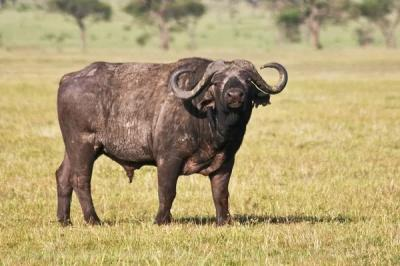buffalo: (55, 57, 287, 224)
